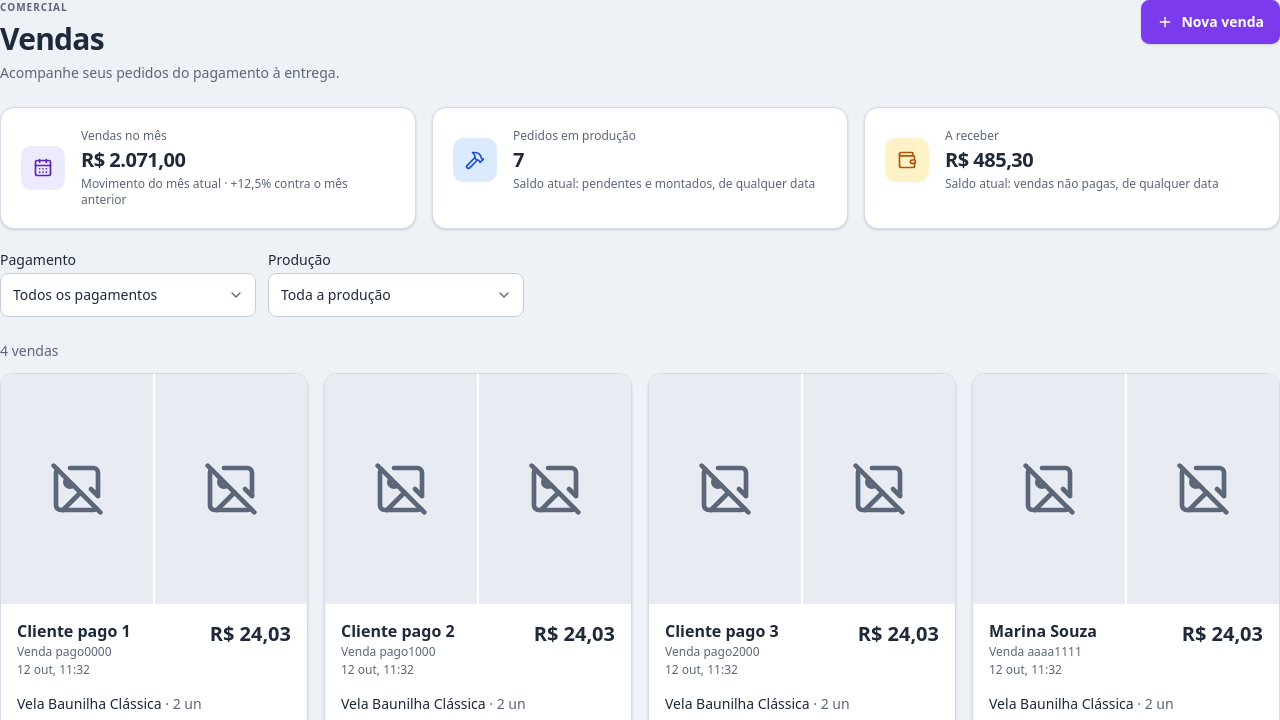
Test: the two filters › count the sales with the API total, not with the rows on the screen
This screenshot has width=1280, height=720.
Expected: the text "4 vendas" is shown, [0,341,58,360]
Select "Pago" in the dropdown labelled "Pagamento" at coordinates (128, 295), box [0,273,256,317]
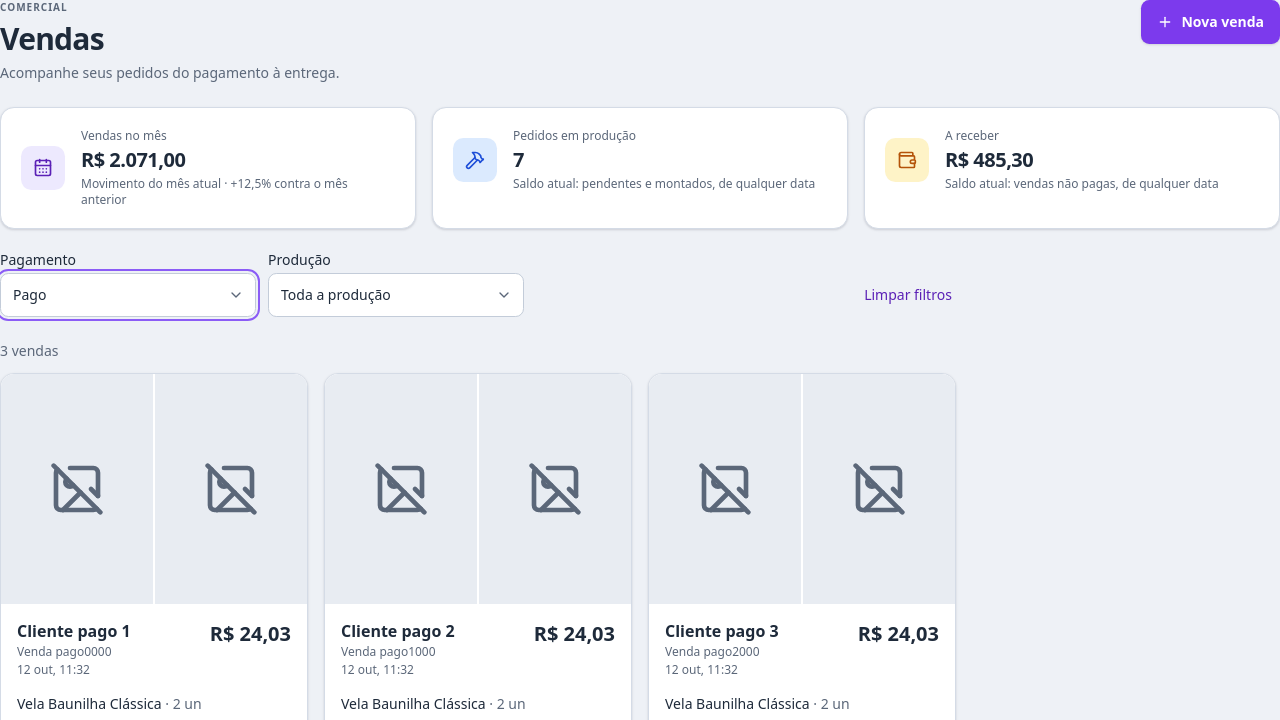
Now the text "3 vendas" is shown, box [0,341,58,360]
